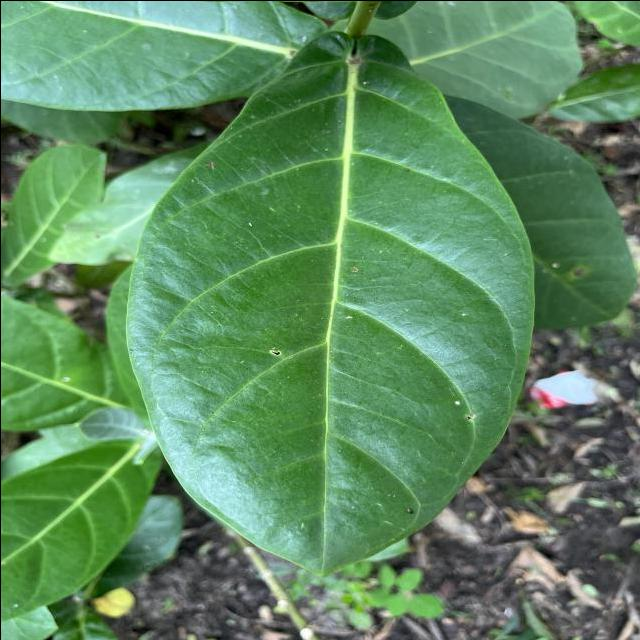Calotropis gigantea: (120, 28, 540, 580), (0, 434, 159, 622)
